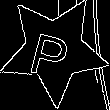P_N: (30, 21, 78, 79)
